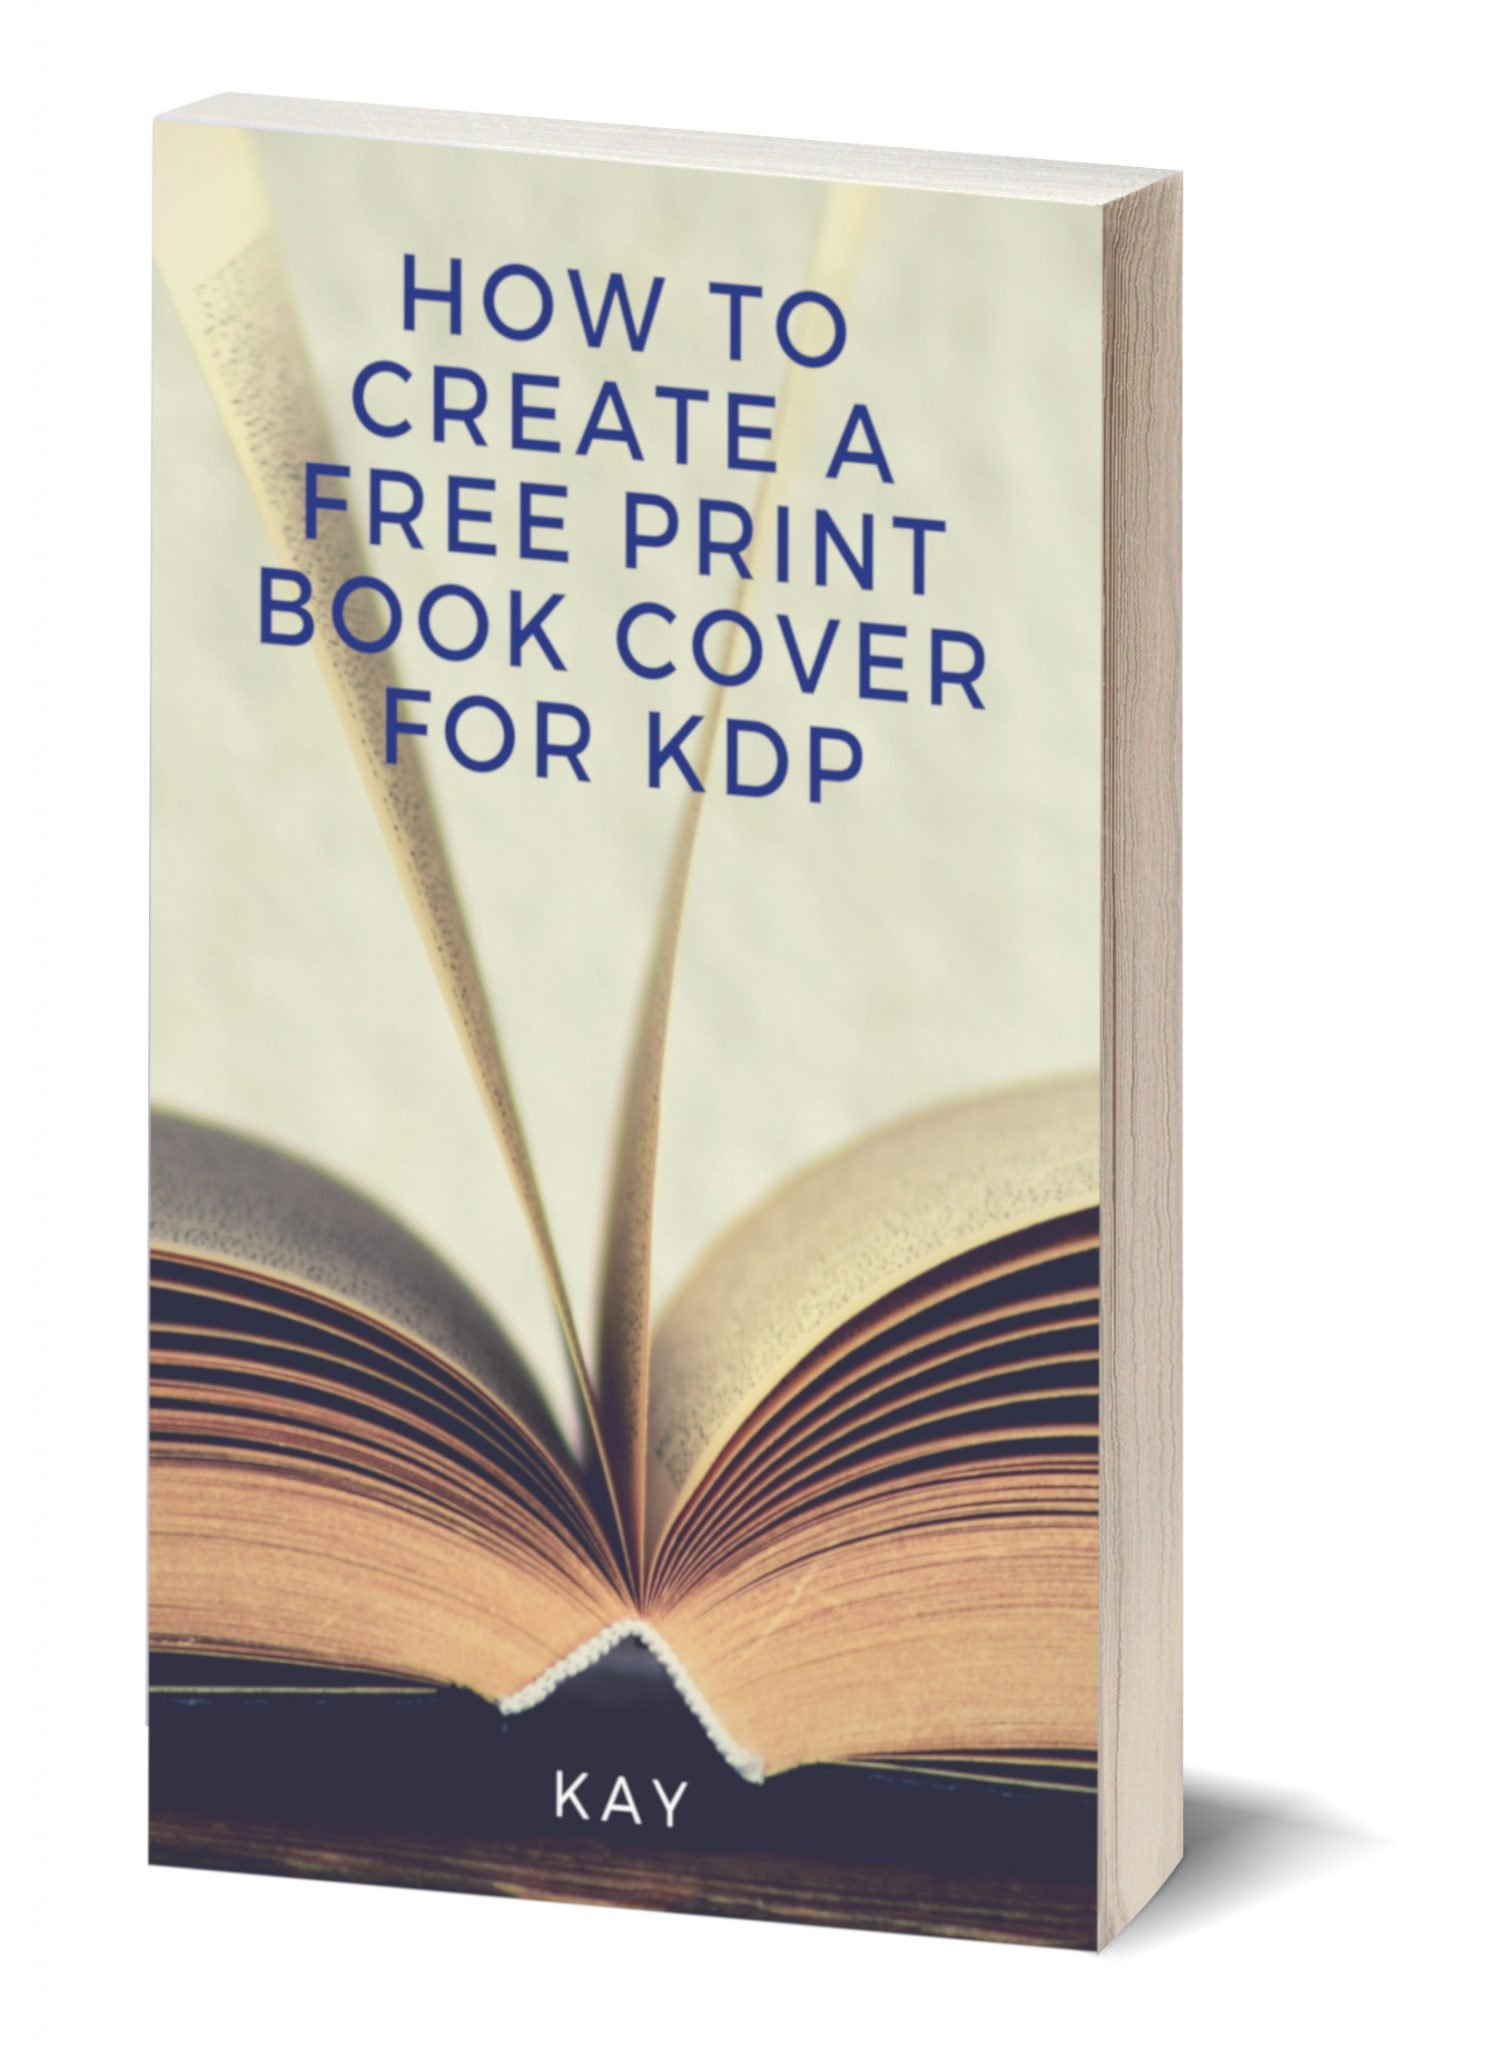book: (140, 97, 1185, 1967)
